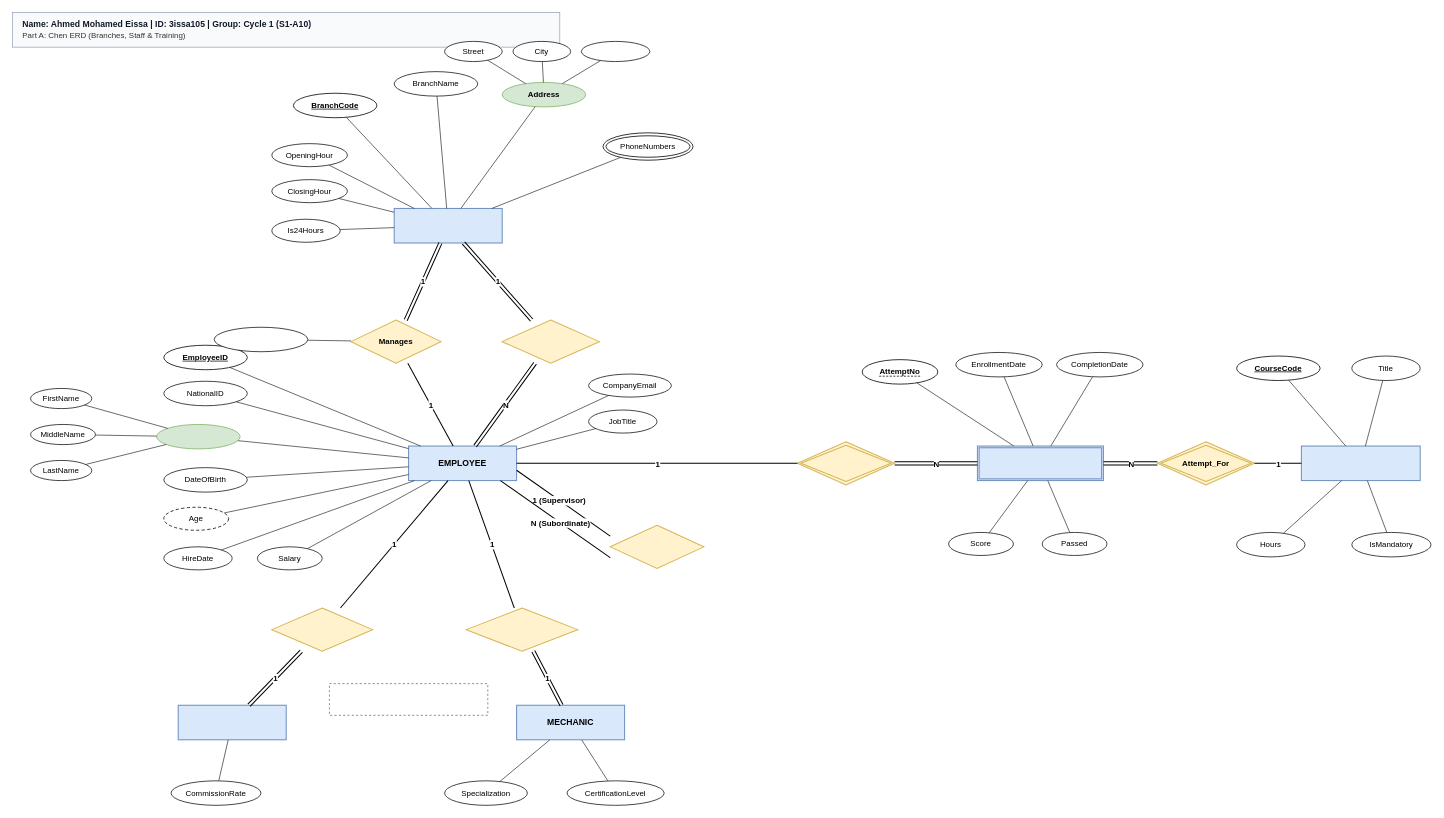
The diagram is 1444 pixels wide and 818 high, and some of its shapes have lost their labels. The box of each missing label's shape, as (x1, y1, x2, y2) in pixels:
Acts_As_Agent: (271, 607, 373, 651)
Acts_As_Mechanic: (465, 607, 578, 651)
Assigned_To: (501, 319, 600, 363)
BRANCH: (393, 208, 502, 243)
Disjoint: Cannot be both Rental Agent and Mechanic.: (329, 683, 488, 715)
Enrolls_In: (797, 441, 895, 485)
FullName: (156, 424, 240, 449)
Governorate: (581, 41, 650, 62)
ManagerStartDate: (213, 327, 308, 352)
RENTAL_AGENT: (177, 704, 286, 740)
Supervises: (609, 524, 704, 569)
TRAINING_ATTEMPT: (977, 445, 1104, 481)
TRAINING_COURSE: (1301, 445, 1420, 481)
